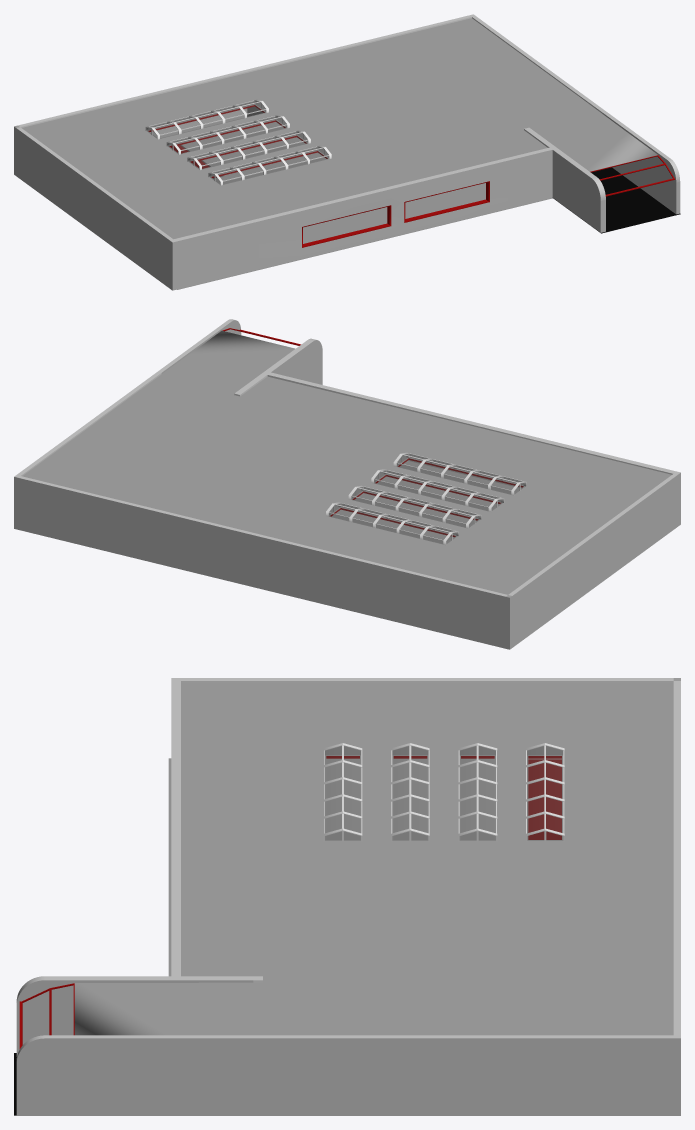
Rendered from Supermarket2.3.fbx.
3 views of the same model, one above another, from view 1: azimuth 30°, elevation 25°; view 2: azimuth 150°, elevation 25°; view 3: azimuth 270°, elevation 25° (orthographic). The views are drawn at different scales.
Visible parts, largest first — view 1: Roof3, Walls, Floor2, Frame; view 2: Roof3, Walls, Floor2; view 3: Roof3, Walls, Floor2.
Boxes of the visible parts, x1,y1,x2,y2 form: Roof3: (22,18,657,239); Walls: (14,14,680,290); Floor2: (171,122,680,289); Frame: (590,155,675,196); Roof3: (22,330,671,594); Walls: (14,319,680,649); Floor2: (332,461,519,543); Roof3: (74,683,673,1035); Walls: (16,678,680,1115); Floor2: (14,758,561,1115).
Bounding box in the file's own units: 35.3 × 3.99 × 27.61.
